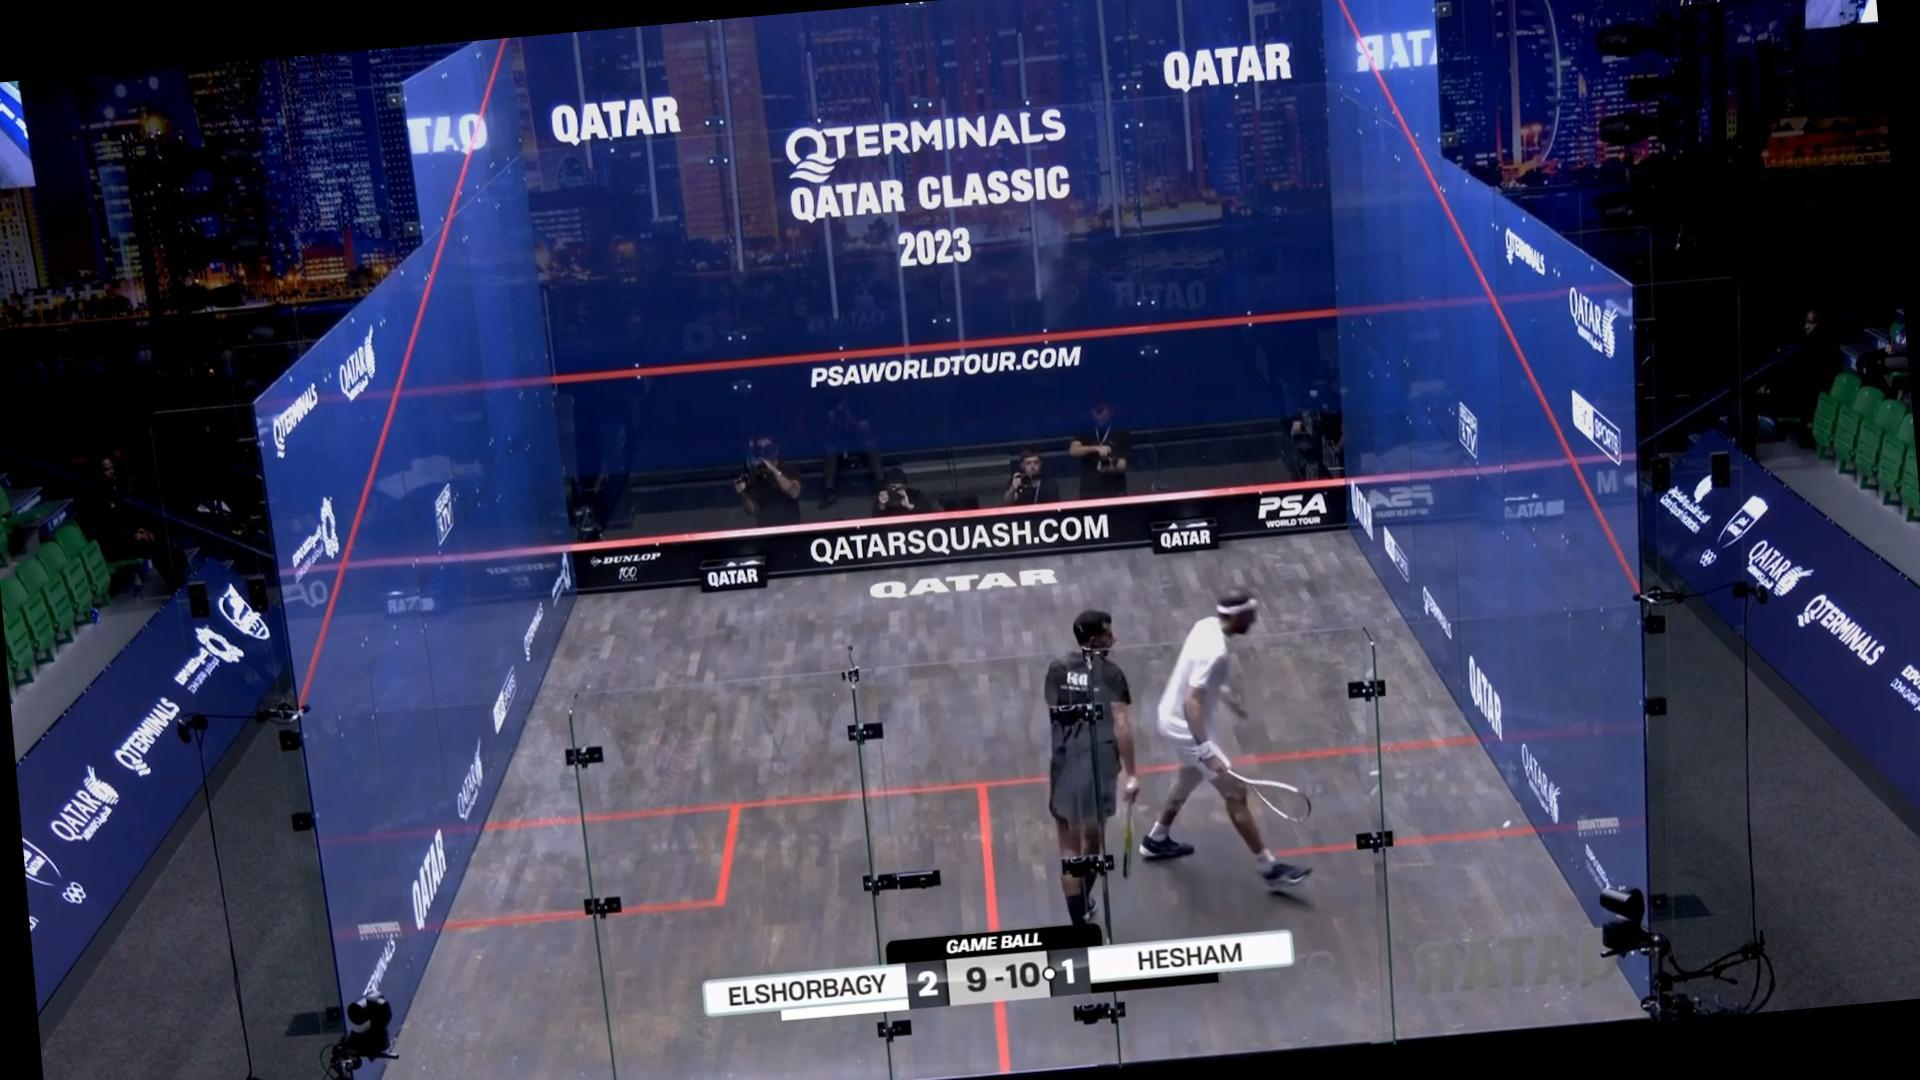Squash-Ball: (1490, 803, 1523, 843)
